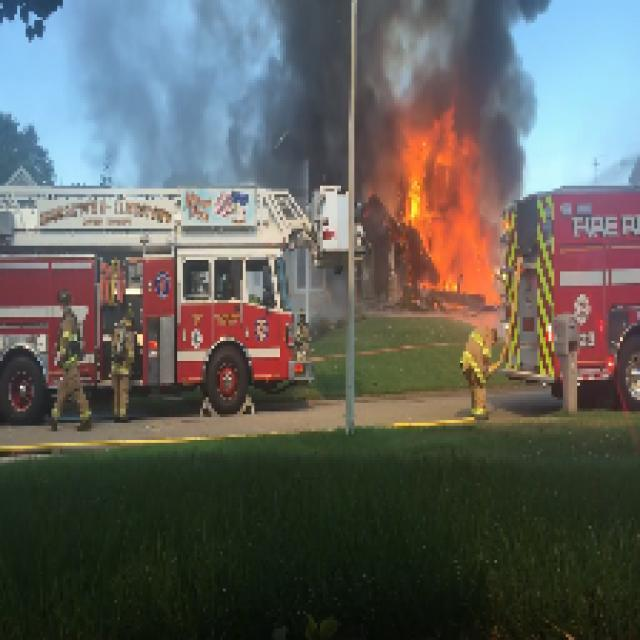Fire: (403, 114, 483, 289)
Smoke: (72, 3, 348, 174), (360, 2, 543, 92), (491, 98, 540, 188)
